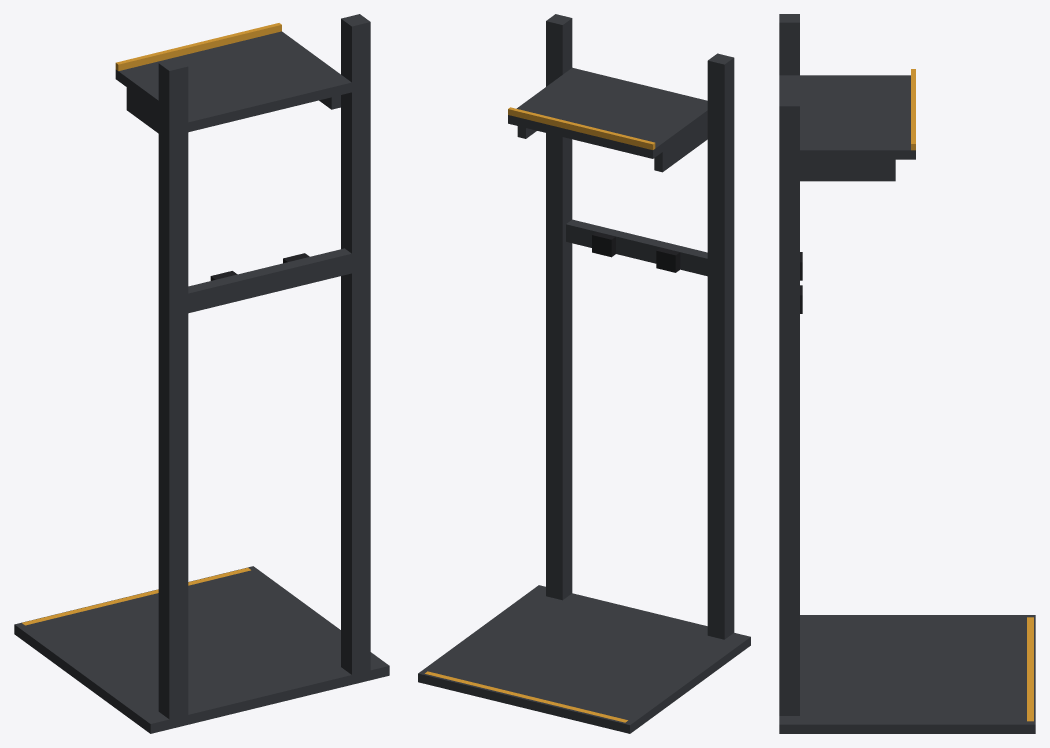
File: ws_suit_stand.glb
3 renders of one model, left to right at view 1: azimuth 30°, elevation 25°; view 2: azimuth 150°, elevation 25°; view 3: azimuth 270°, elevation 25°, orthographic. The views are drawn at different scales.
Visible parts, largest first — view 1: ws_suit_stand; view 2: ws_suit_stand; view 3: ws_suit_stand.
Boxes of the visible parts, bbox=[...] form: ws_suit_stand: bbox=[14, 14, 389, 733]; ws_suit_stand: bbox=[418, 14, 750, 733]; ws_suit_stand: bbox=[779, 14, 1035, 733].
Size of what is drawn, in the model's own units: 0.76 by 2 by 0.75.
